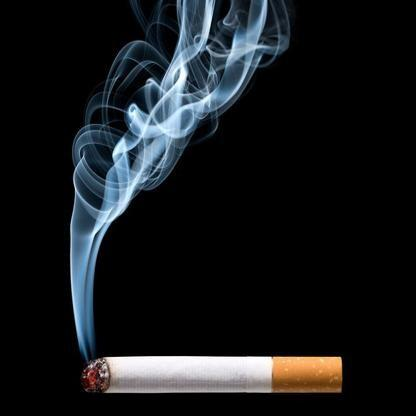trash: (88, 356, 343, 392)
